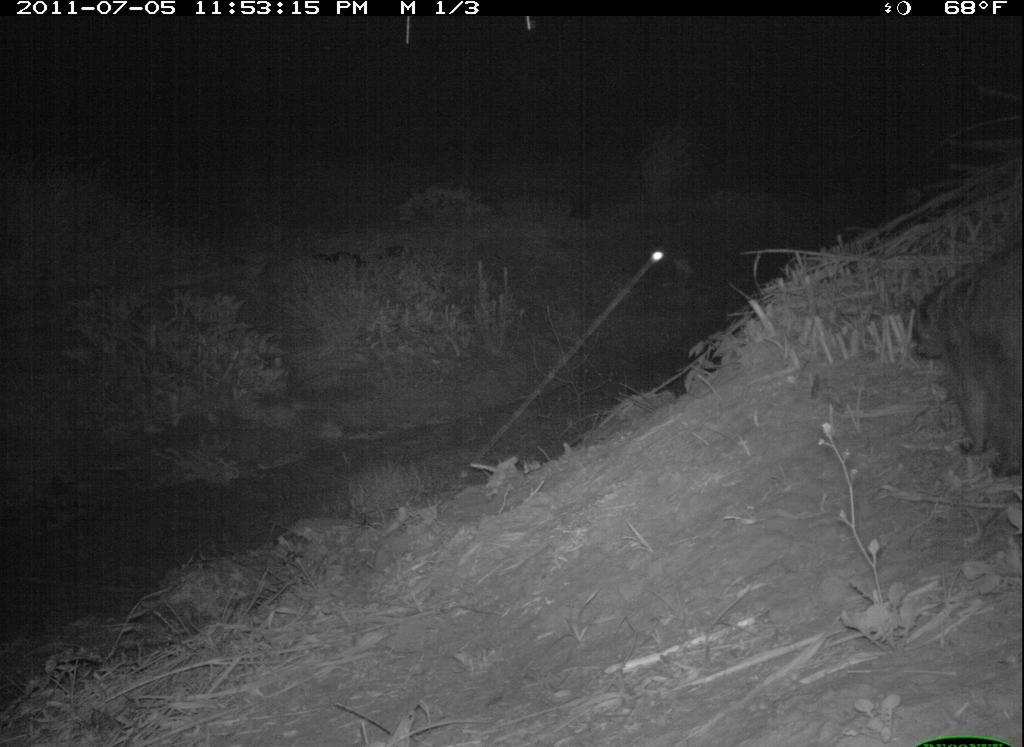raccoon: (899, 222, 1023, 489)
